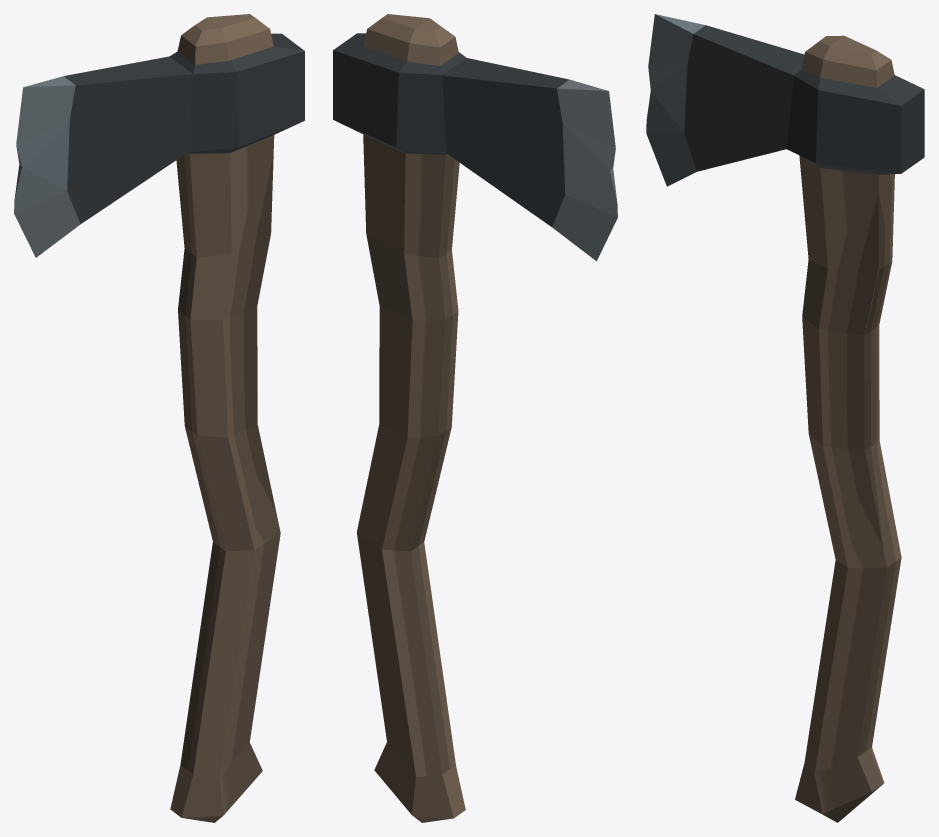
Rendered from Wep_Axe_01.glb.
3 views of the same model, side by side, from view 1: azimuth 30°, elevation 25°; view 2: azimuth 150°, elevation 25°; view 3: azimuth 330°, elevation 25° (orthographic). The views are drawn at different scales.
Visible parts, largest first — view 1: SM_Gen_Wep_Axe_01; view 2: SM_Gen_Wep_Axe_01; view 3: SM_Gen_Wep_Axe_01.
Boxes of the visible parts, left/top/right/bottom form: SM_Gen_Wep_Axe_01: left=14, top=14, right=304, bottom=822; SM_Gen_Wep_Axe_01: left=333, top=14, right=617, bottom=822; SM_Gen_Wep_Axe_01: left=646, top=14, right=924, bottom=822.
Size of the model in its own units: 0.2667 by 0.737 by 0.0781.
1 material, 1 textured.
